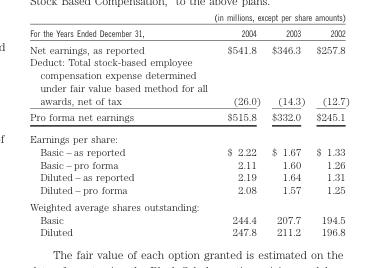table: (29, 29, 349, 237)
table column: (29, 29, 216, 237), (216, 29, 265, 237), (265, 29, 310, 237), (310, 29, 349, 237)
table column header: (29, 29, 349, 40)
table projected row header: (29, 127, 349, 144), (29, 197, 349, 212)
table row: (29, 55, 349, 108), (29, 108, 349, 127), (29, 127, 349, 144), (29, 40, 349, 55), (29, 197, 349, 212), (29, 183, 349, 197), (29, 144, 349, 157), (29, 157, 349, 170), (29, 170, 349, 183), (29, 212, 349, 225), (29, 225, 349, 237), (29, 29, 349, 40)
